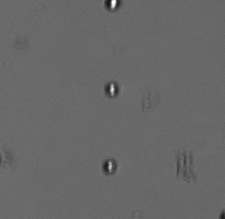Living Cell: (100, 157, 119, 176), (104, 80, 121, 99), (103, 1, 121, 12)
